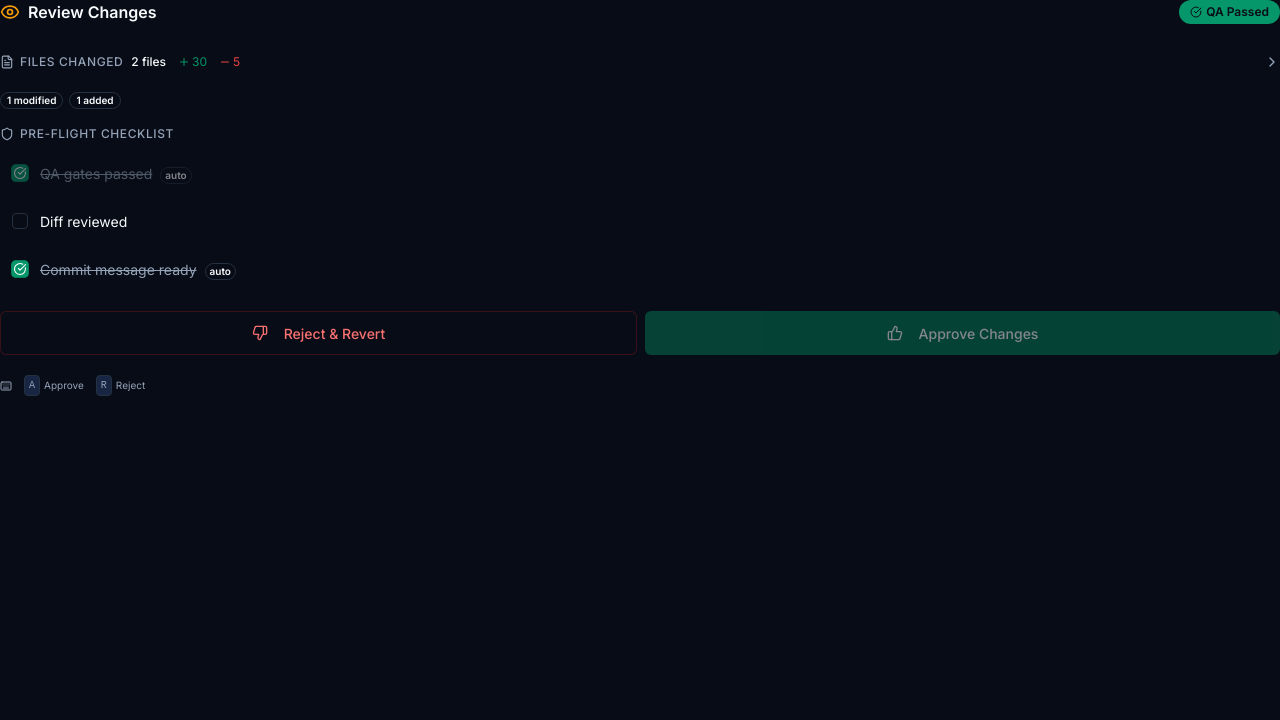
Test: ApprovalPanel › should show error message when approve API fails
The width and height of the screenshot is (1280, 720).
Note: Complete checklist & click approve
Click the checkbox "Diff reviewed": click(84, 222) [0,199,1279,243]
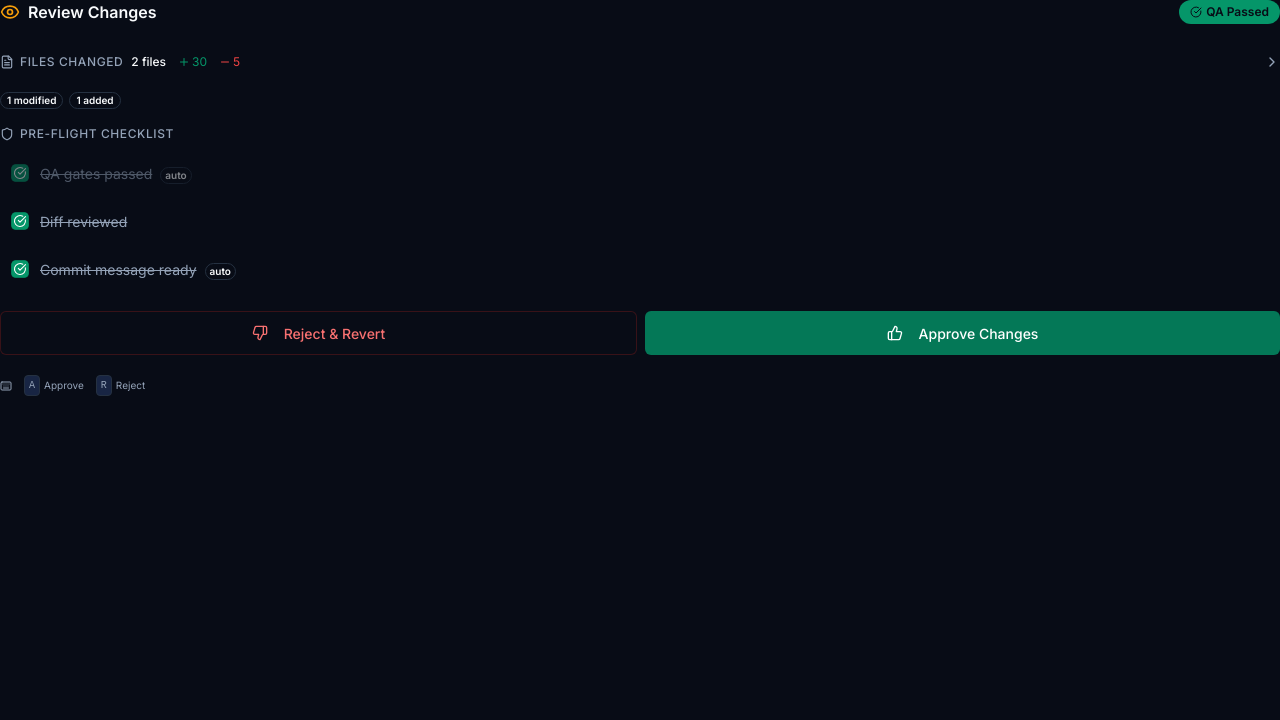
Click the button "Approve Changes": click(962, 333) [645,311,1279,355]
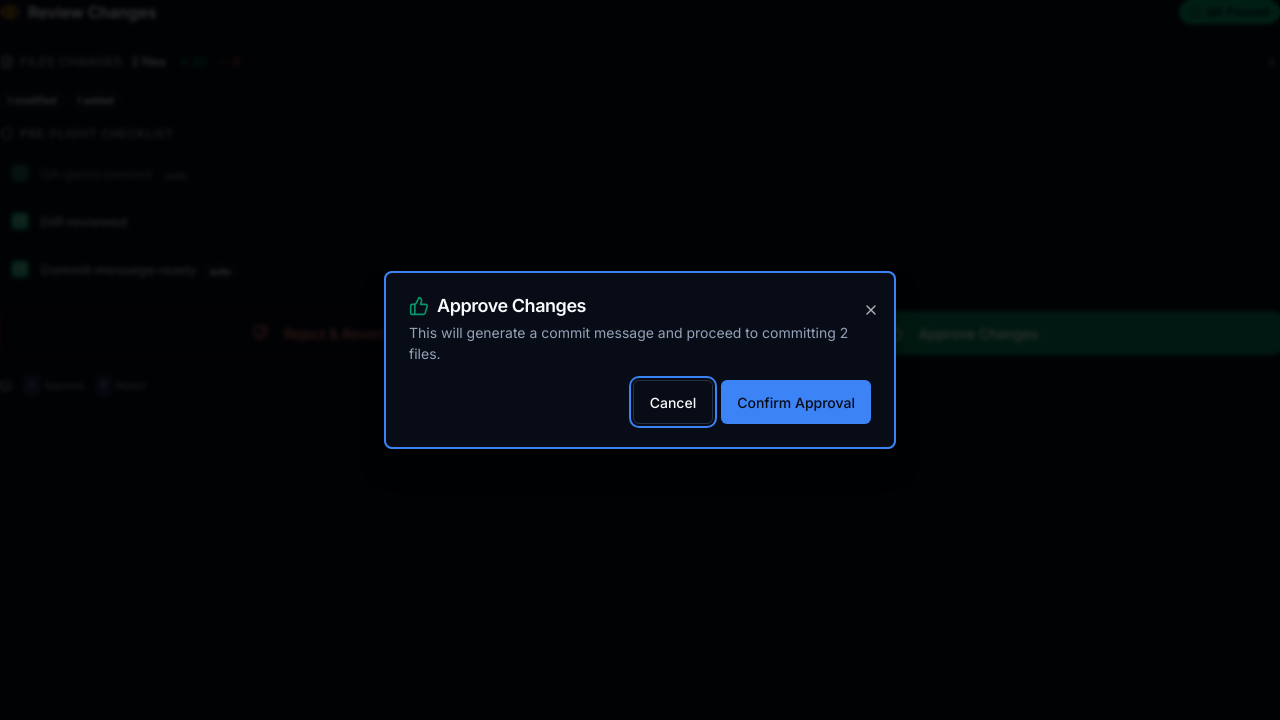
Click the button "Confirm Approval": click(796, 402) [721,380,871,424]
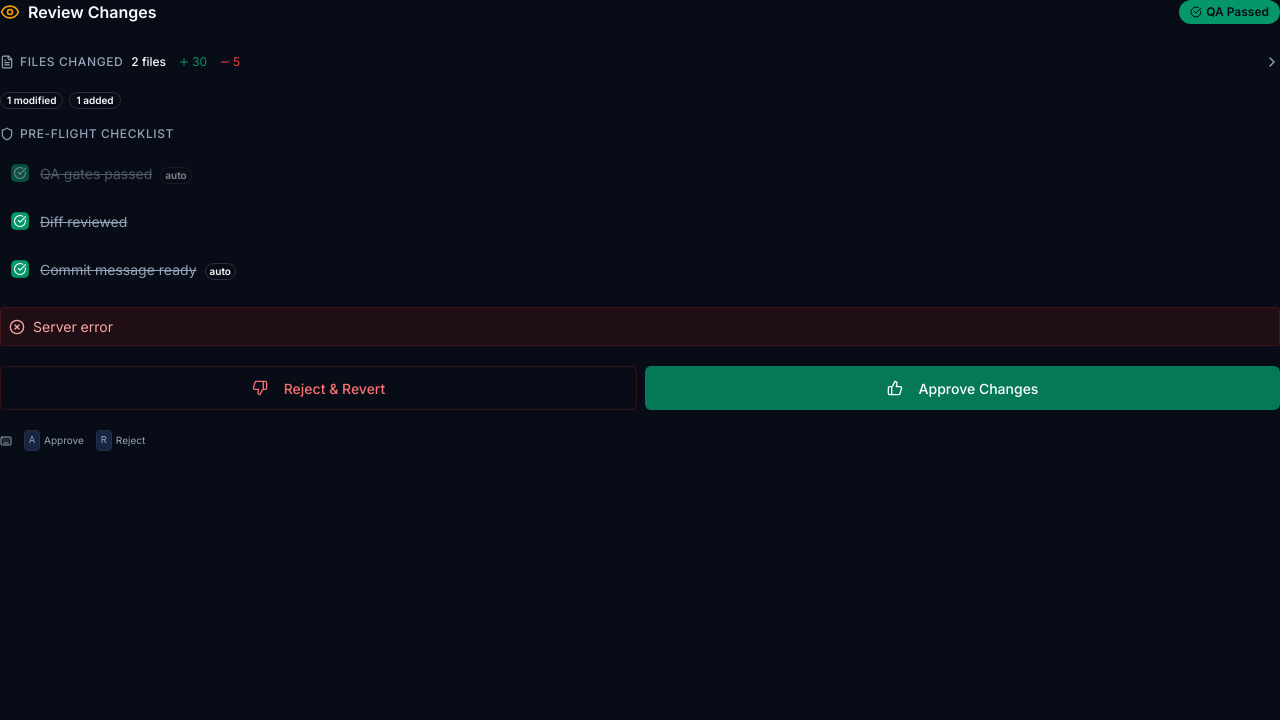
Check: the text "Server error" is shown, box [0,307,1279,346]
